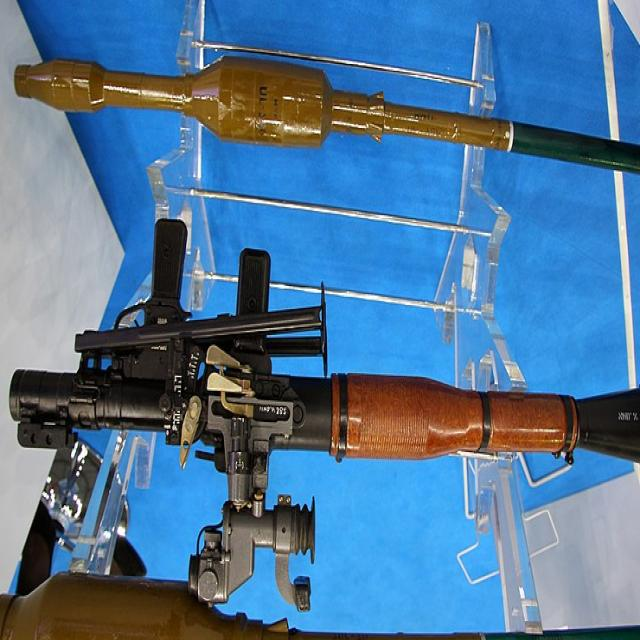Gun: (0, 232, 640, 590)
